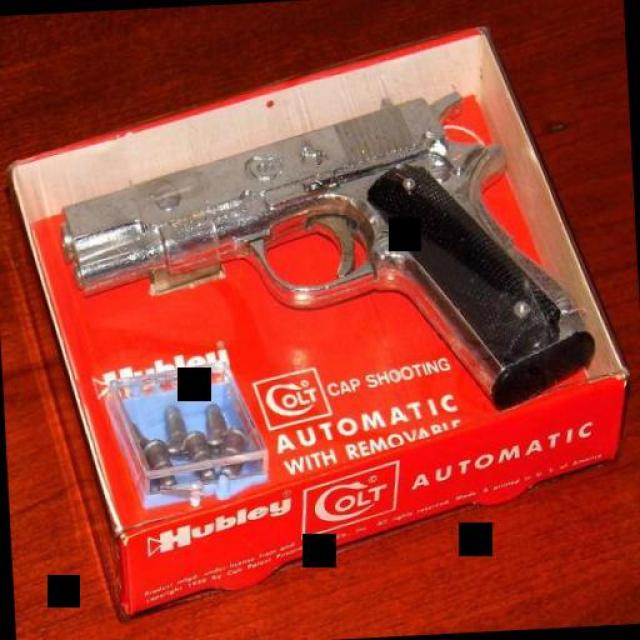gun: (40, 85, 606, 427)
